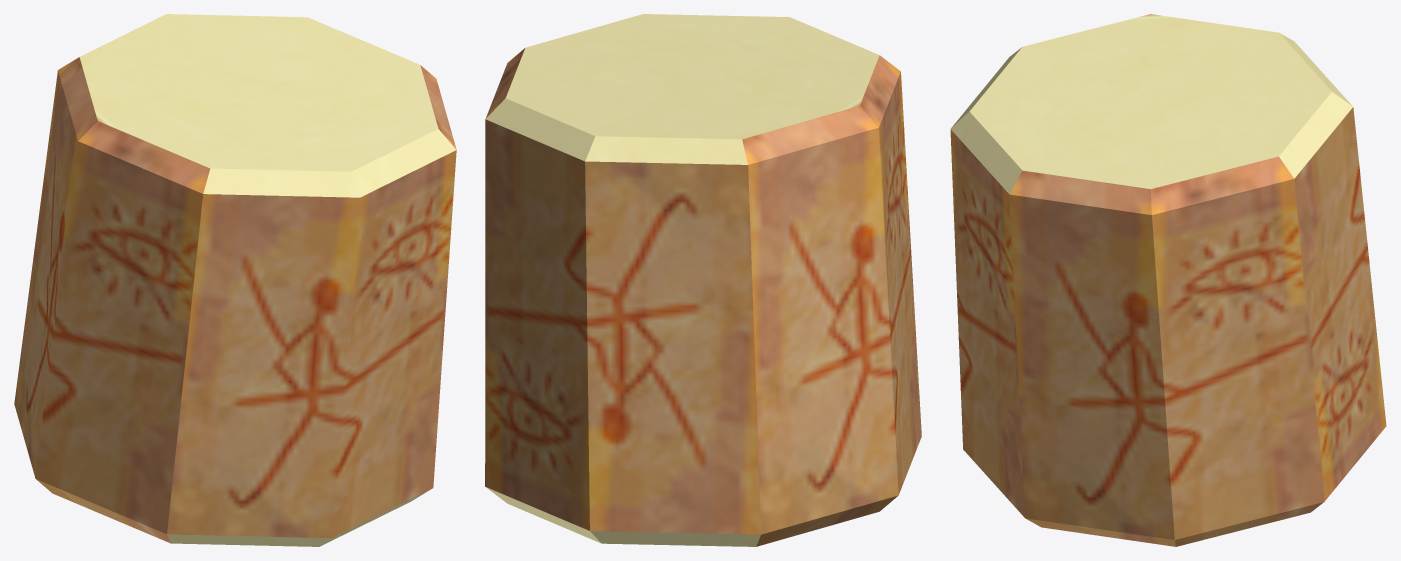
The model's file is Desert_Item_6.fbx.
3 renders of one model, left to right at view 1: azimuth 30°, elevation 25°; view 2: azimuth 150°, elevation 25°; view 3: azimuth 270°, elevation 25°, orthographic. The views are drawn at different scales.
Visible parts, largest first — view 1: Desert_Item_6; view 2: Desert_Item_6; view 3: Desert_Item_6.
Boxes of the visible parts, box(x1,y1,x2,y2) form: Desert_Item_6: box(14, 14, 456, 546); Desert_Item_6: box(485, 14, 921, 546); Desert_Item_6: box(950, 14, 1386, 546).
Size of the model in its own units: 2.1 by 2.1 by 2.1.
1 material, 1 textured.
